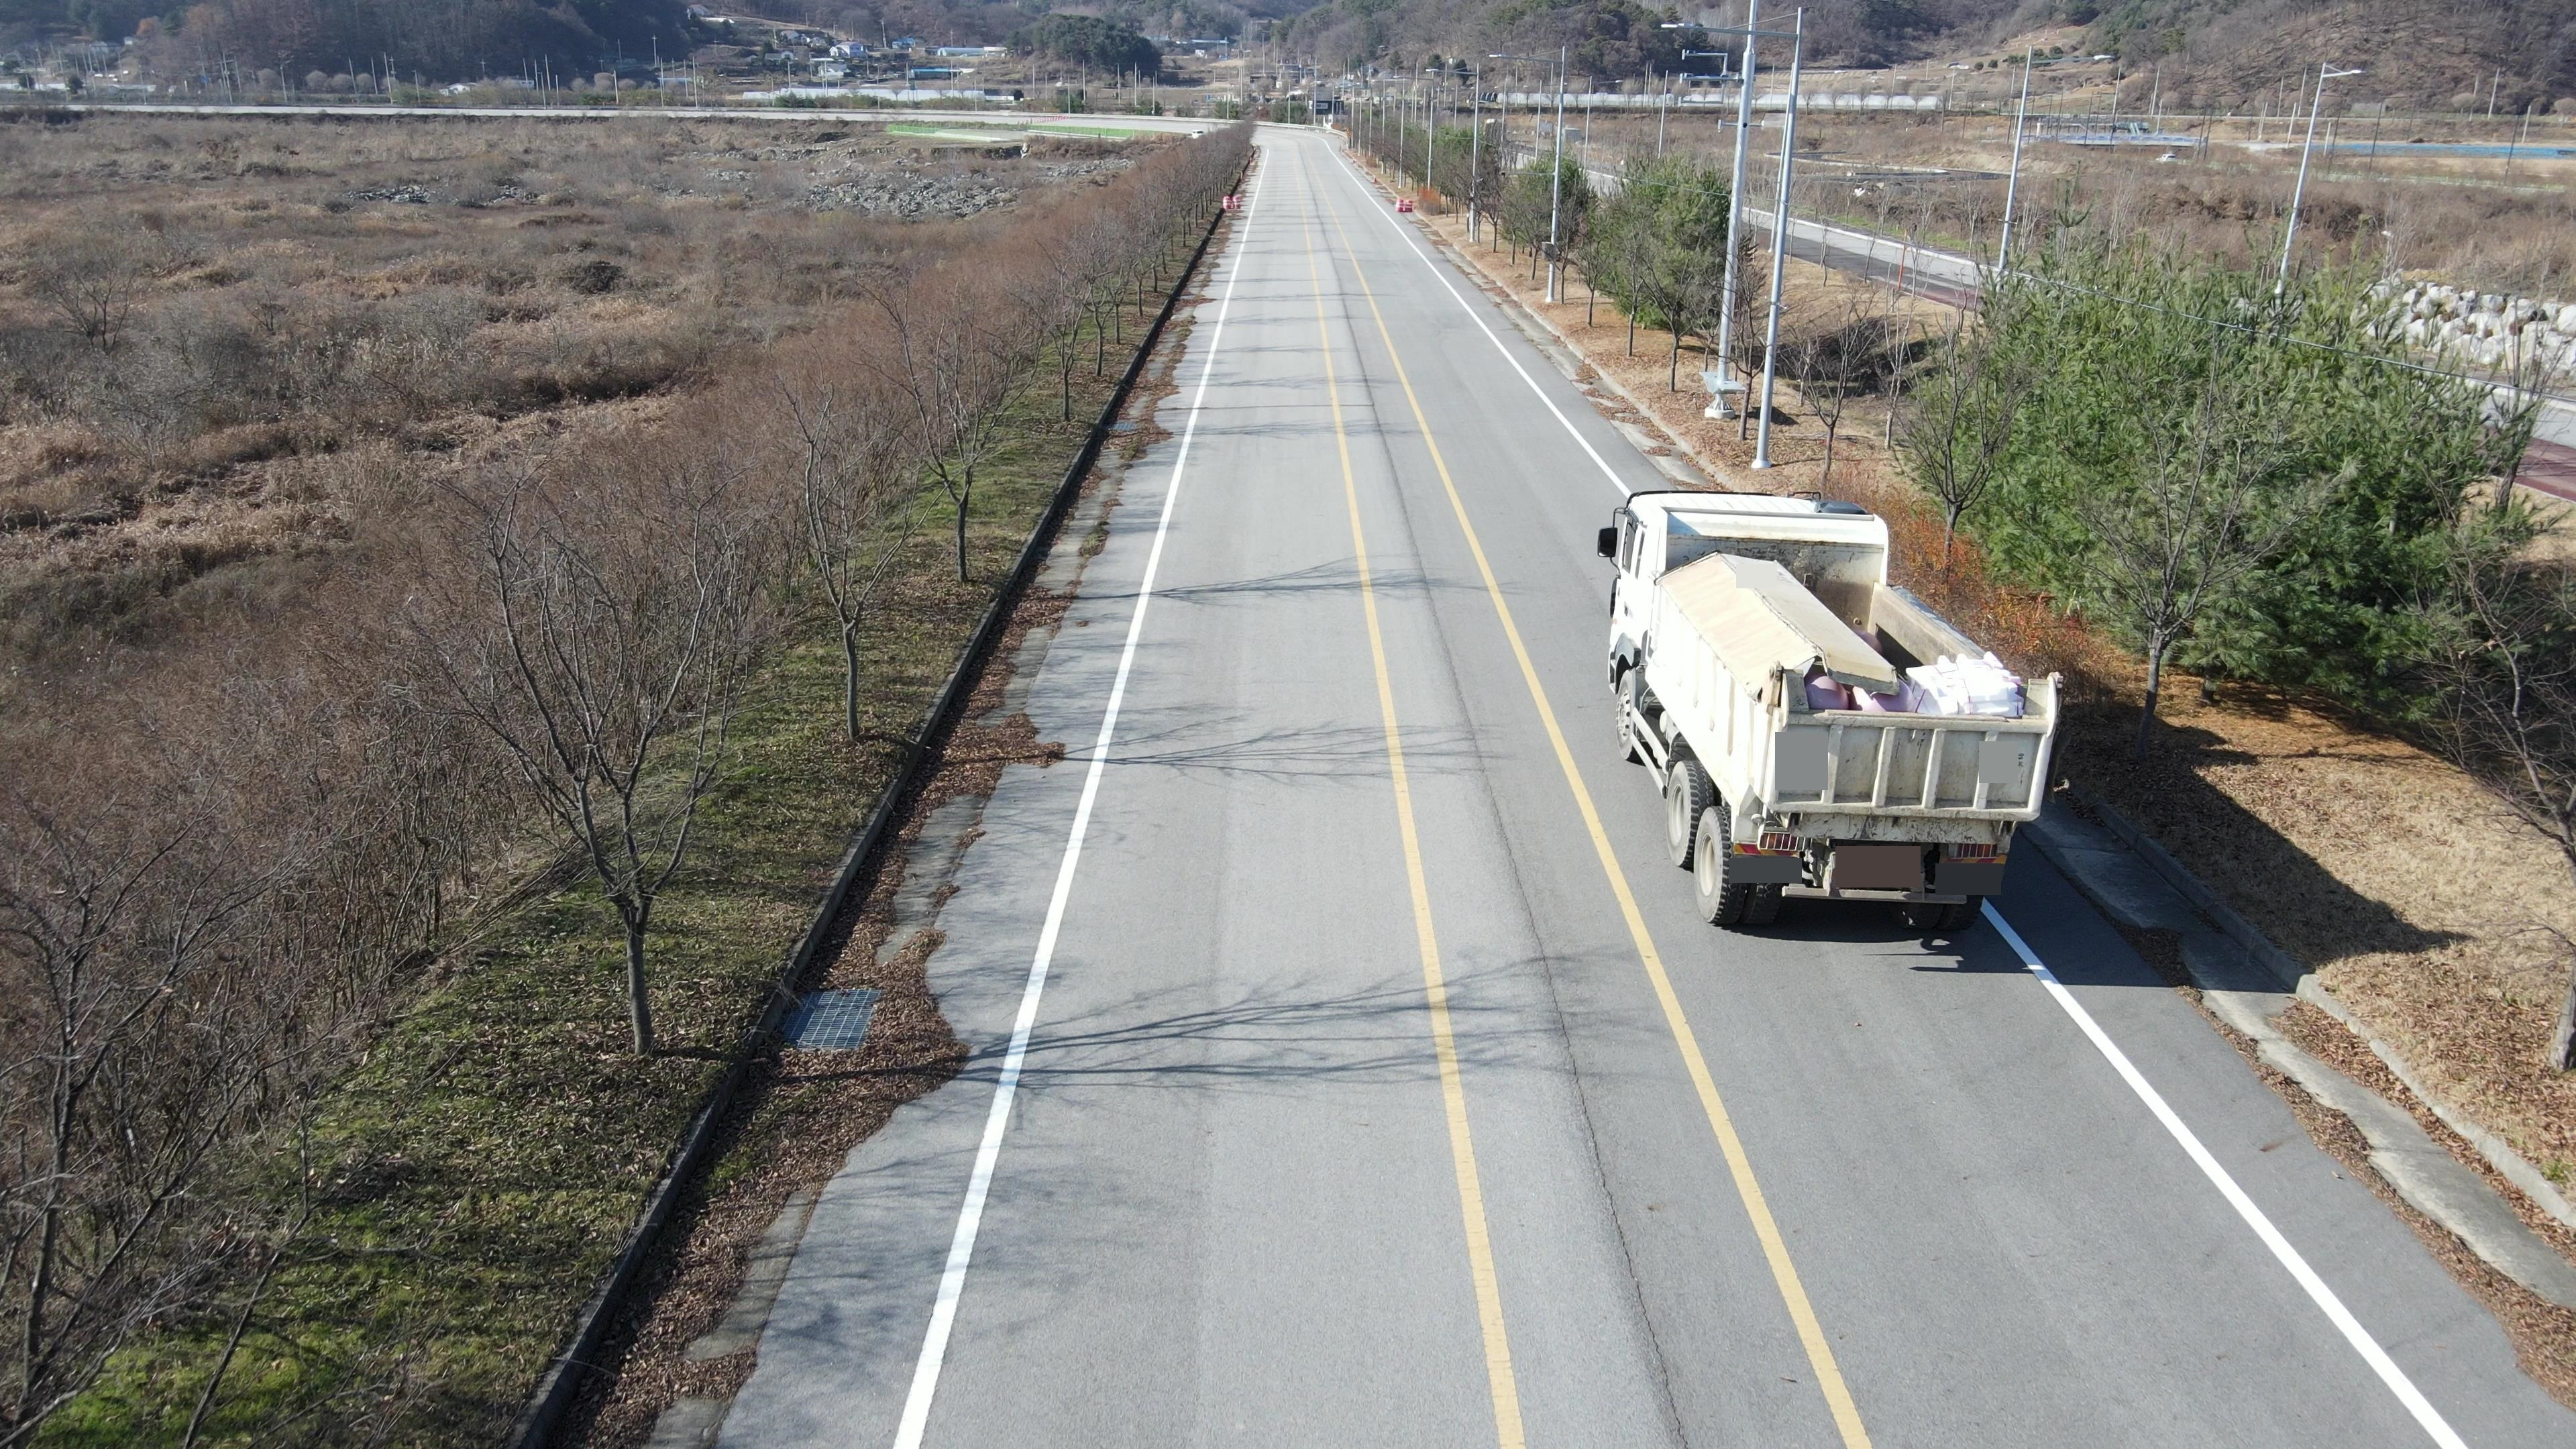불법차량: (1597, 488, 2067, 934)
